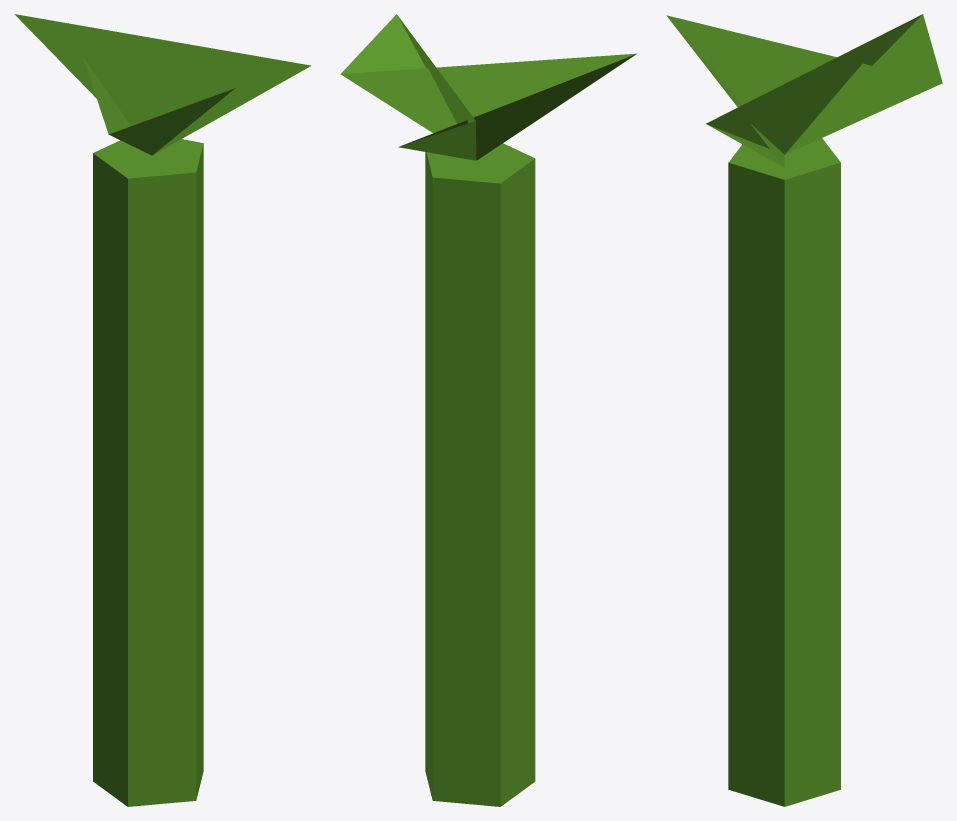
Rendered from tree_palm.obj.
The picture shows the model from 3 angles, left to right: view 1: azimuth 30°, elevation 25°; view 2: azimuth 150°, elevation 25°; view 3: azimuth 270°, elevation 25°; orthographic projection.
Bounding box in the file's own units: 0.14 × 0.41 × 0.14.
